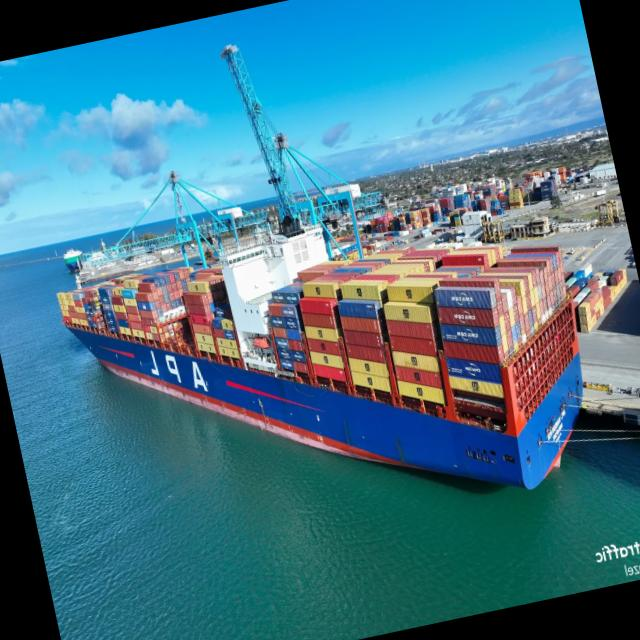Cargo: (58, 229, 582, 488)
